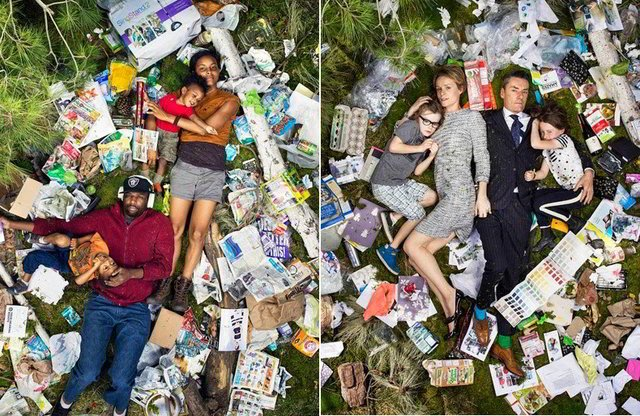person: (482, 60, 547, 208), (85, 172, 172, 272)
